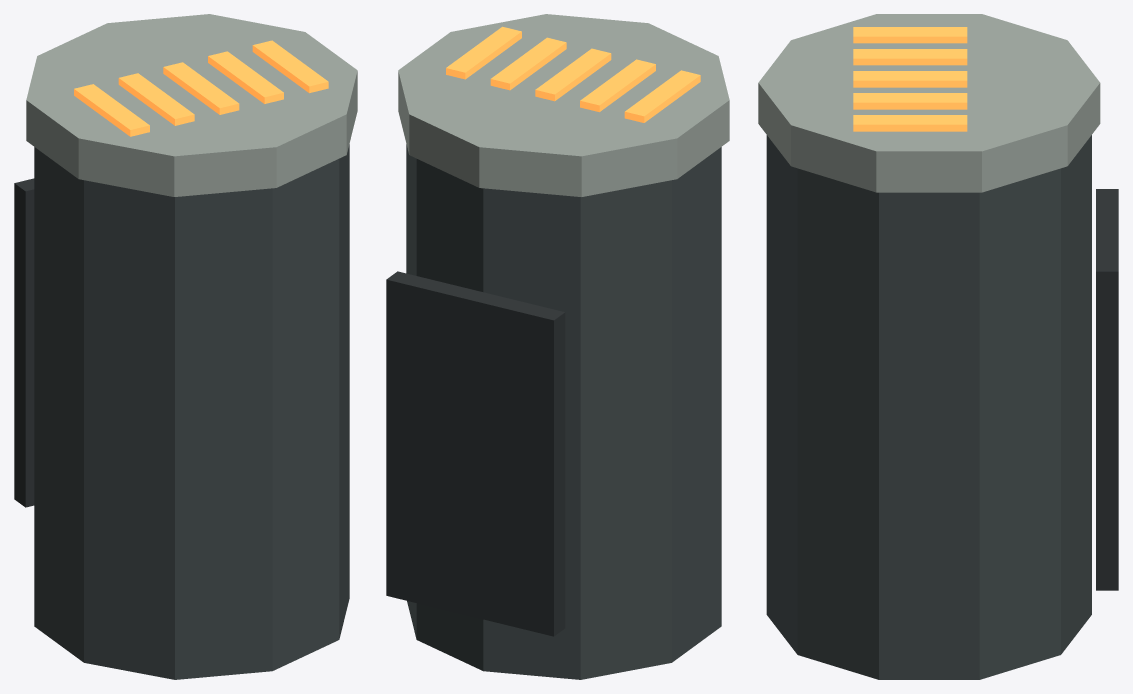
Rendered from blender_incense_2_burning.glb.
3 views of the same model, side by side, from view 1: azimuth 30°, elevation 25°; view 2: azimuth 150°, elevation 25°; view 3: azimuth 270°, elevation 25° (orthographic).
Parts seen in each view (by area): view 1: blender_incense_2_burning; view 2: blender_incense_2_burning; view 3: blender_incense_2_burning.
Boxes of the visible parts, x1=… form: blender_incense_2_burning: x1=14, y1=14, x2=357, y2=679; blender_incense_2_burning: x1=386, y1=14, x2=729, y2=679; blender_incense_2_burning: x1=758, y1=14, x2=1118, y2=679.
Bounding box in the file's own units: 0.0859 × 0.157 × 0.0952.
2 materials, 2 textured.
